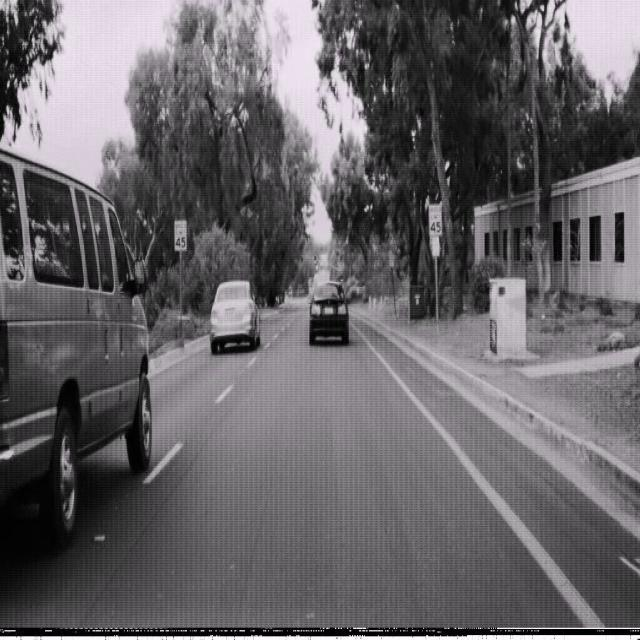speedLimit45: (427, 202, 442, 237), (173, 218, 187, 250)
